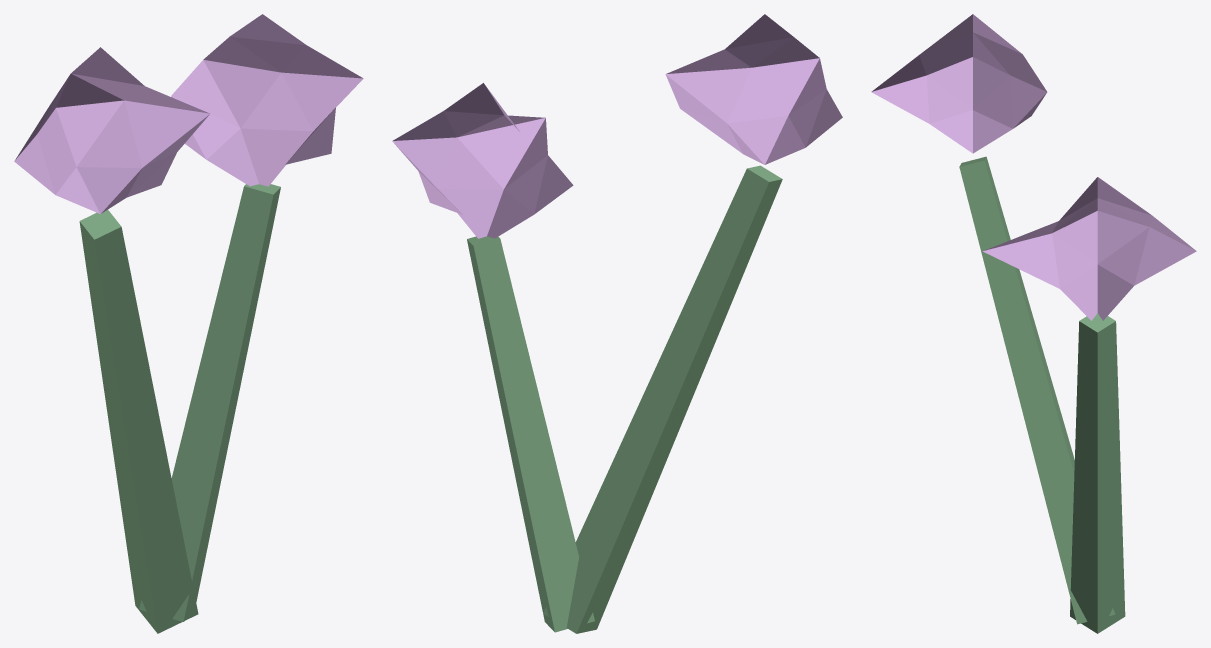
File: flower_v00.glb
The picture shows the model from 3 angles, left to right: view 1: azimuth 30°, elevation 25°; view 2: azimuth 150°, elevation 25°; view 3: azimuth 270°, elevation 25°; orthographic projection. The views are drawn at different scales.
Parts seen in each view (by area): view 1: lod0; view 2: lod0; view 3: lod0.
Boxes of the visible parts, <box> form: lod0: <box>14,14,363,633</box>; lod0: <box>392,14,842,633</box>; lod0: <box>871,14,1196,633</box>.
Size of what is drawn, in the model's own units: 0.2662 by 0.398 by 0.2119.
